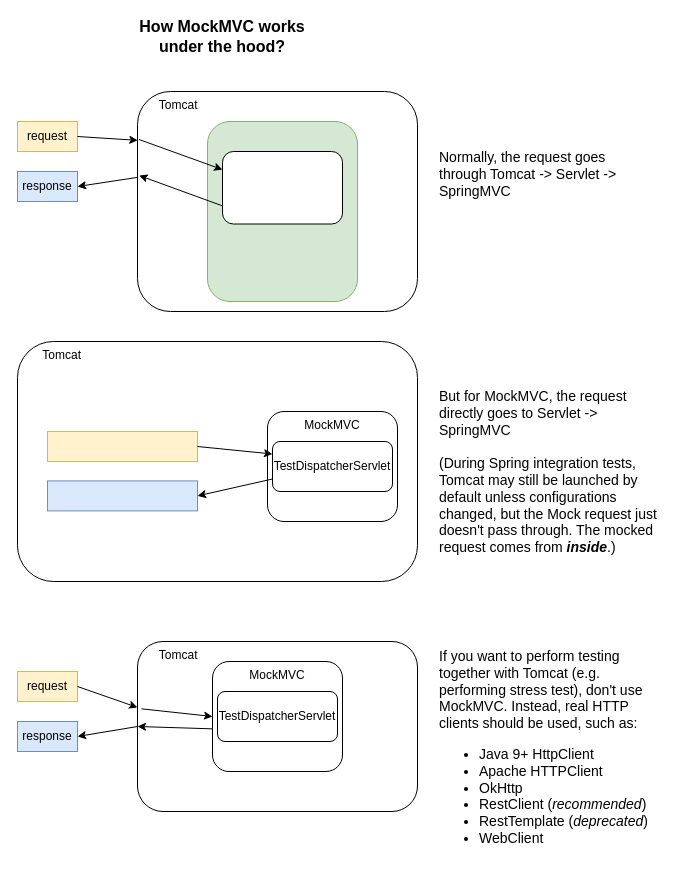
Some shapes in this 675 by 895 pixel diagram are drawn without their labels. The shapes that lost their labels are listed below. From the top down, each one's box as (x1, y1, x2, y2) in pixels, then its label:
(222, 150, 342, 224): DispatcherServlet
(206, 120, 358, 302): Spring MVC
(46, 430, 198, 462): MockHttpServletRequest
(46, 480, 198, 511): MockHttpServletResponse
